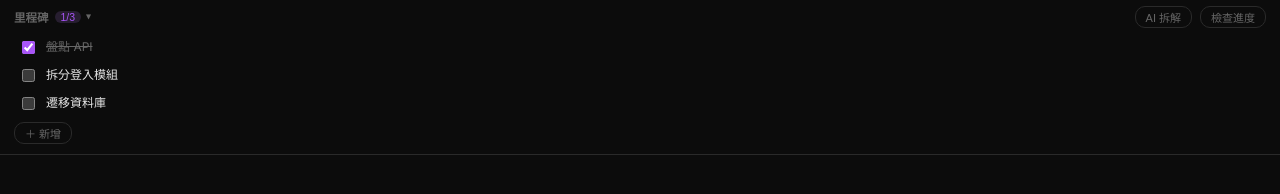
MilestoneList – AI progress check › says so when the AI found nothing to confirm
Click the button "檢查進度".
click(1233, 17)  # box [1200, 6, 1266, 28]
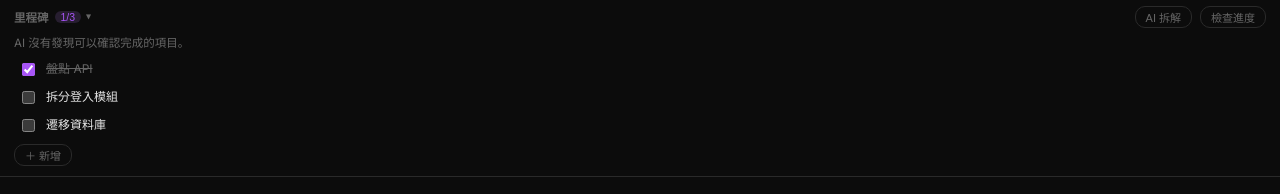
Check: the text "AI 沒有發現可以確認完成的項目。" is shown, box [14, 36, 189, 50]
